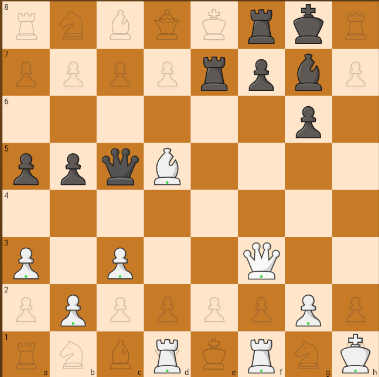bb: (291, 53, 327, 94)
bk: (289, 0, 326, 47)
bp: (50, 152, 94, 188), (6, 150, 45, 189), (292, 104, 327, 140), (248, 55, 280, 94)
bq: (101, 145, 142, 188)
br: (241, 3, 282, 47), (197, 52, 234, 94)
wb: (149, 144, 188, 190)
wk: (335, 334, 375, 376)
wp: (56, 289, 89, 330), (291, 292, 327, 329), (104, 242, 136, 281), (9, 245, 42, 280)
wq: (239, 238, 282, 282)
wr: (150, 334, 187, 375), (246, 337, 282, 375)
